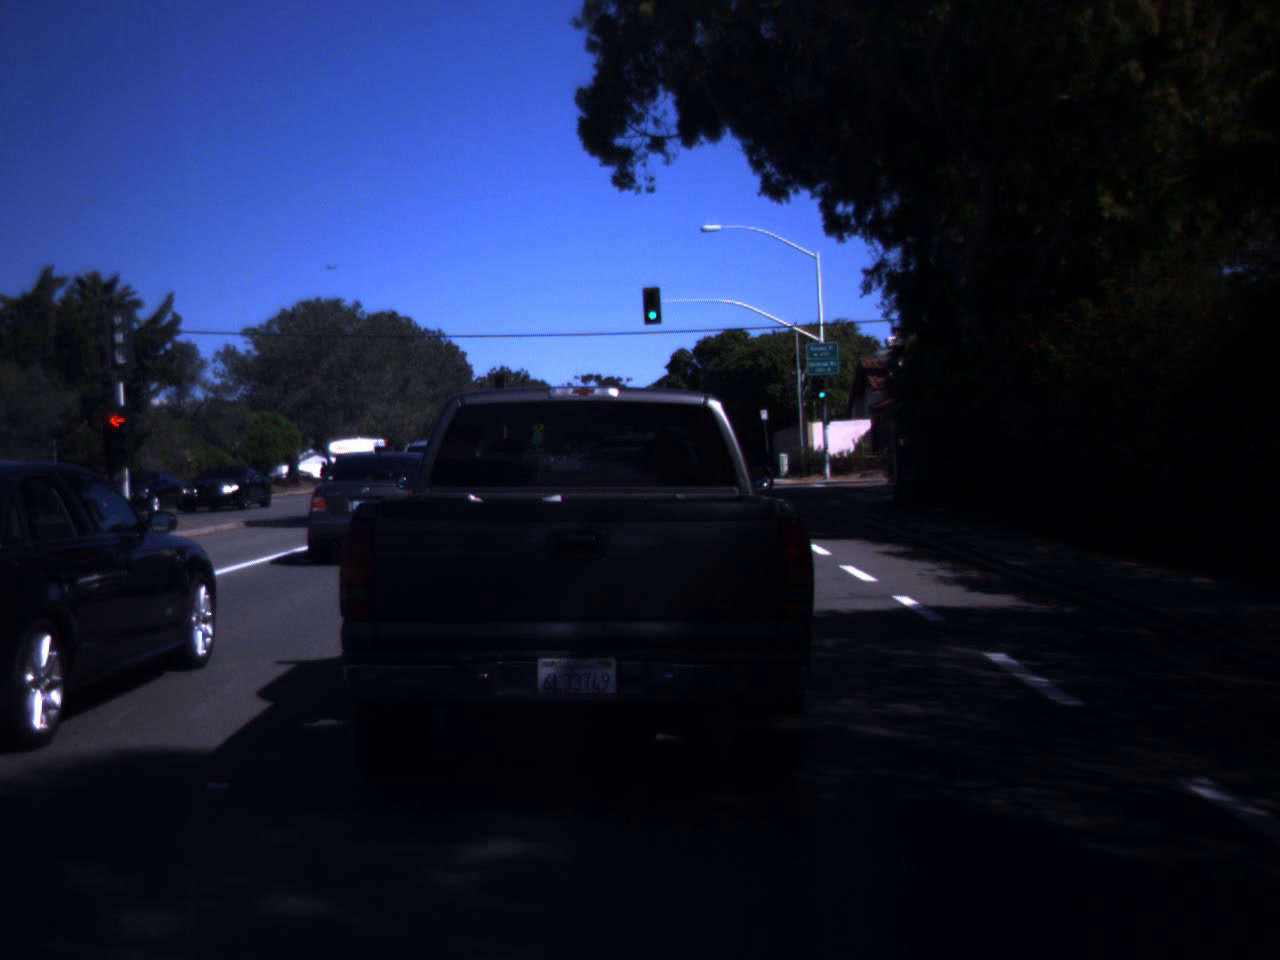go: (643, 287, 664, 322), (816, 378, 828, 398)
stop: (90, 403, 147, 475)
